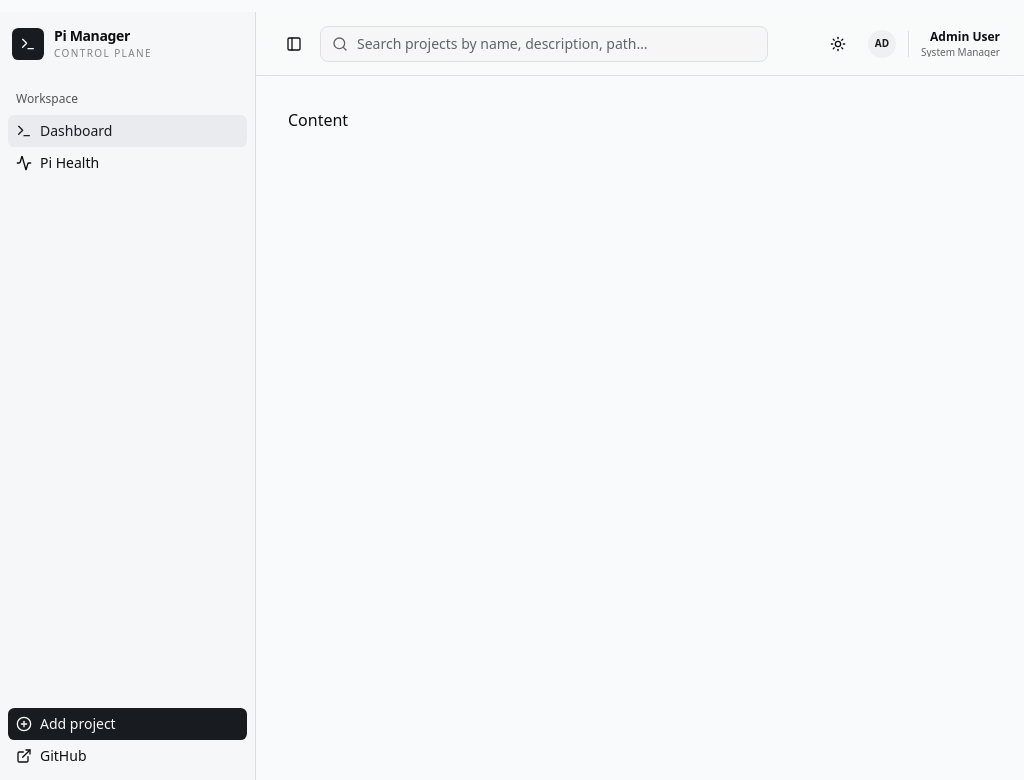
it: AppShell › exposes light, dark, and system in the theme menu
Click the button named "change theme" at (838, 44), box [820,26,856,62]
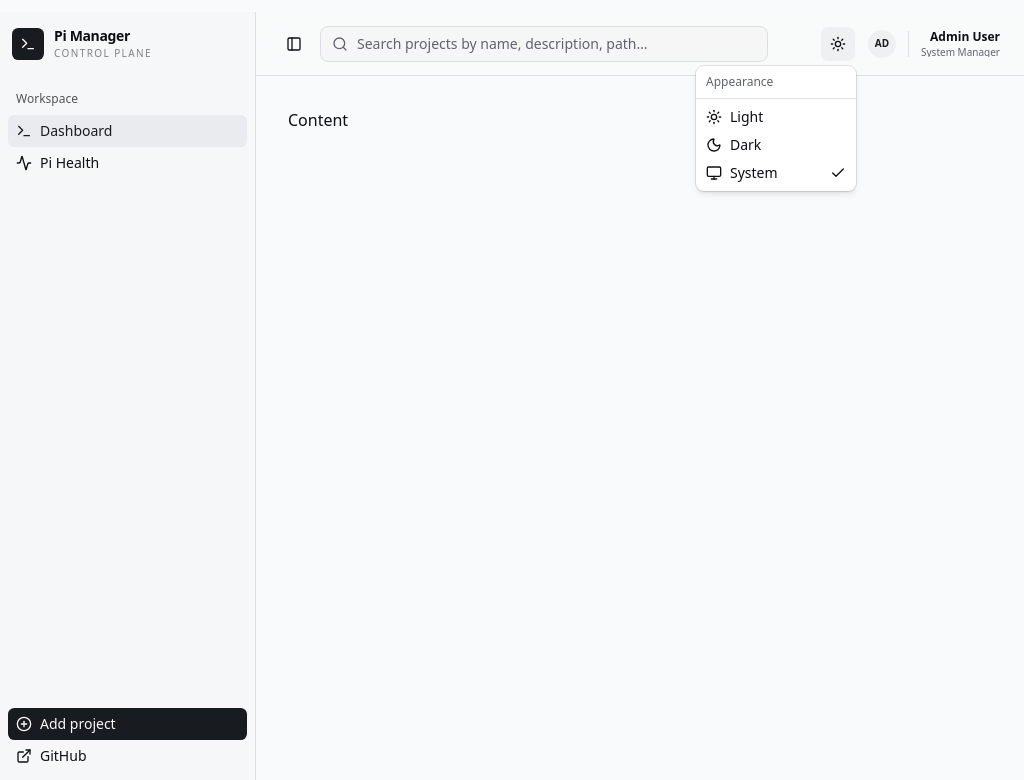
Expected: the menu item "Light" is shown, [706,107,763,126]
Expected: the menu item "Dark" is shown, [706,135,761,154]
Expected: the menu item "System" is shown, [700,159,852,187]
